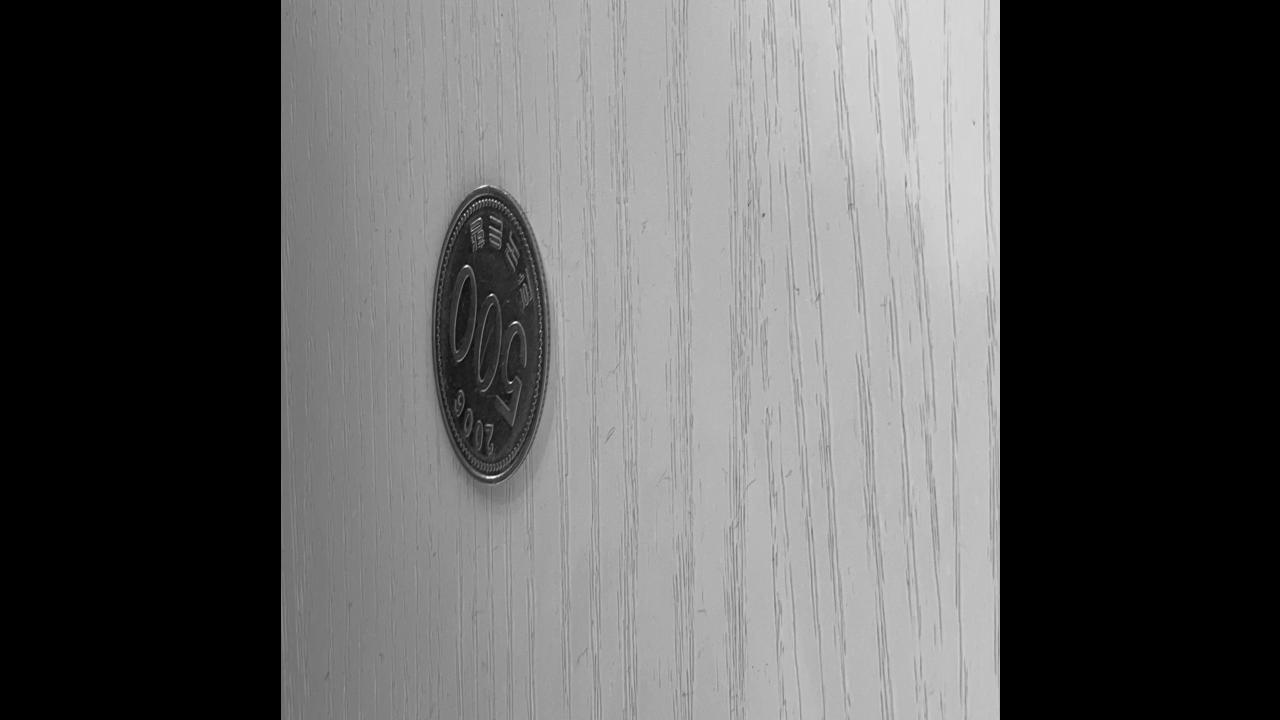coin: (429, 176, 552, 492)
